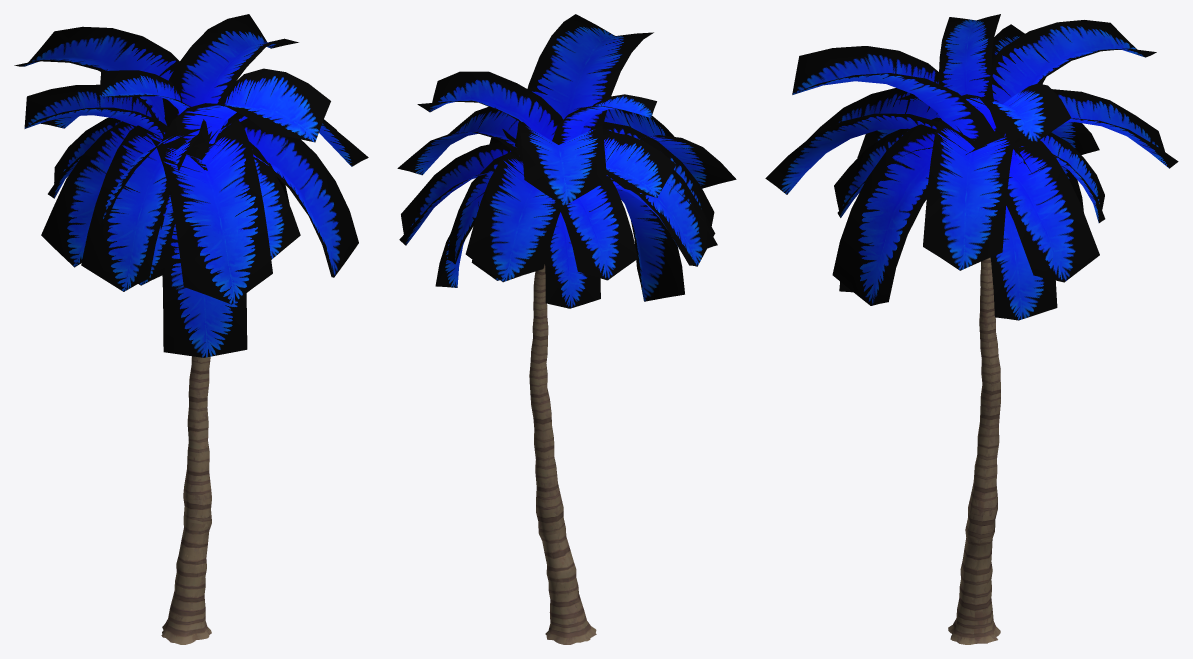
The model's file is Homeworld_Exterior_Common_Plant_Tree_16_Lod0.fbx.
3 views of the same model, side by side, from view 1: azimuth 30°, elevation 25°; view 2: azimuth 150°, elevation 25°; view 3: azimuth 270°, elevation 25° (orthographic). The views are drawn at different scales.
Visible parts, largest first — view 1: Homeworld_Exterior_Common_Plant_Tree_16_Leaf_Lod0, Homeworld_Exterior_Common_Plant_Tree_16_Bark_Lod0; view 2: Homeworld_Exterior_Common_Plant_Tree_16_Leaf_Lod0, Homeworld_Exterior_Common_Plant_Tree_16_Bark_Lod0; view 3: Homeworld_Exterior_Common_Plant_Tree_16_Leaf_Lod0, Homeworld_Exterior_Common_Plant_Tree_16_Bark_Lod0.
Boxes of the visible parts, x1=… form: Homeworld_Exterior_Common_Plant_Tree_16_Leaf_Lod0: x1=14, y1=14, x2=368, y2=357; Homeworld_Exterior_Common_Plant_Tree_16_Bark_Lod0: x1=161, y1=356, x2=211, y2=644; Homeworld_Exterior_Common_Plant_Tree_16_Leaf_Lod0: x1=397, y1=14, x2=736, y2=308; Homeworld_Exterior_Common_Plant_Tree_16_Bark_Lod0: x1=529, y1=264, x2=596, y2=644; Homeworld_Exterior_Common_Plant_Tree_16_Leaf_Lod0: x1=765, y1=14, x2=1178, y2=320; Homeworld_Exterior_Common_Plant_Tree_16_Bark_Lod0: x1=948, y1=257, x2=1000, y2=644.
Size of the model in its own units: 3.87 by 7.12 by 4.51.
